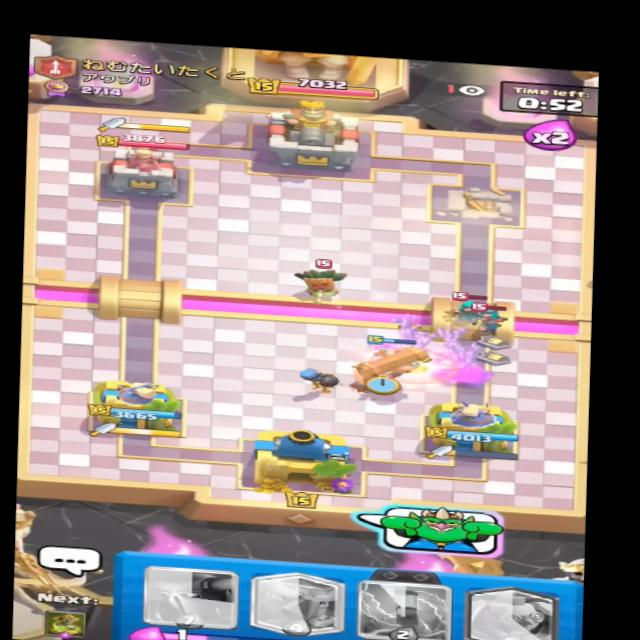dart-goblin: (296, 260, 347, 299)
rascal-girl: (471, 301, 505, 330), (455, 295, 482, 321)
